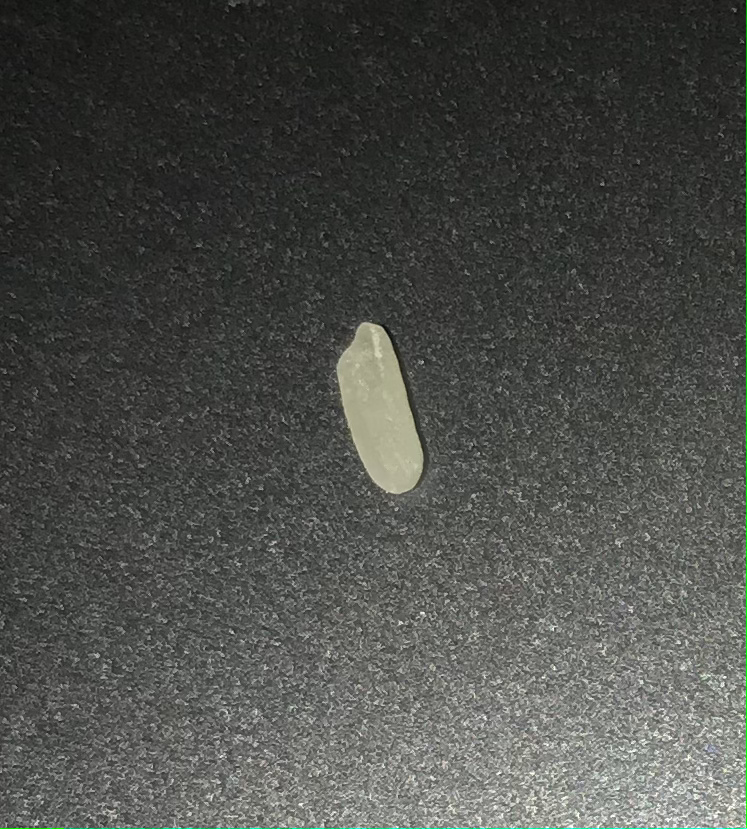Gao Tam Thom: (308, 300, 455, 509)
